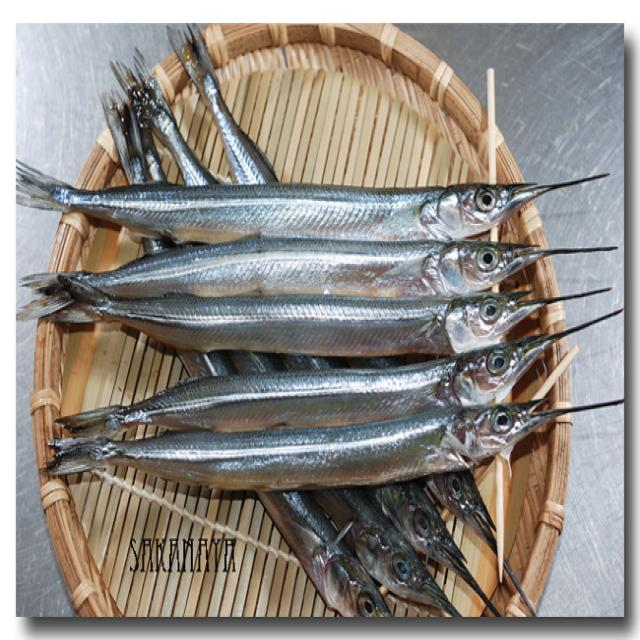熟制海鲜: (14, 20, 622, 617)
